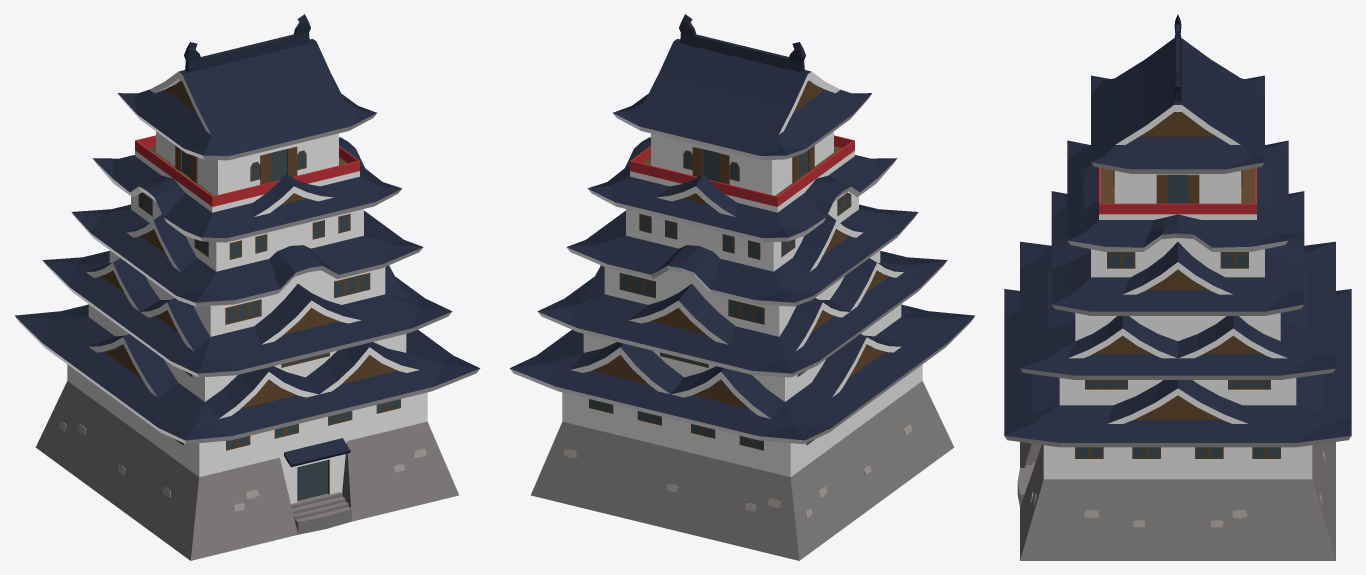
The model's file is japan_castle-japan.fbx.
The picture shows the model from 3 angles, left to right: view 1: azimuth 30°, elevation 25°; view 2: azimuth 150°, elevation 25°; view 3: azimuth 270°, elevation 25°; orthographic projection.
Parts seen in each view (by area): view 1: japan_castle_japan; view 2: japan_castle_japan; view 3: japan_castle_japan.
Boxes of the visible parts, bbox=[...] form: japan_castle_japan: bbox=[15, 14, 480, 560]; japan_castle_japan: bbox=[509, 14, 974, 560]; japan_castle_japan: bbox=[1004, 14, 1351, 560].
Size of the model in its own units: 139 by 200 by 139.
